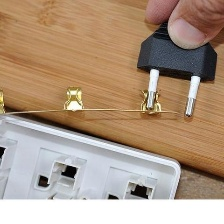three_eye_plug: (0, 106, 183, 200)
